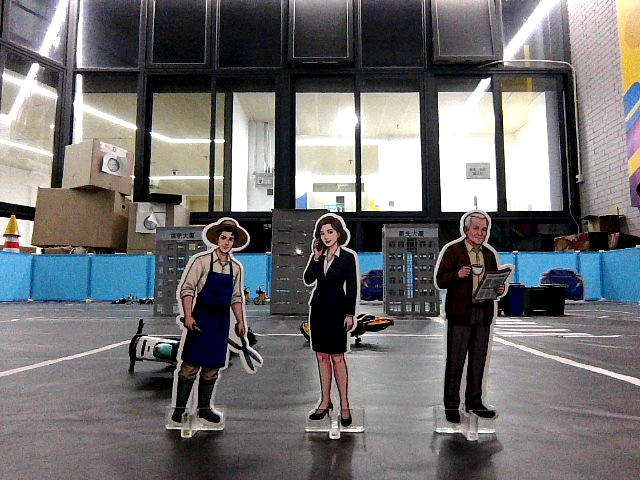community_person: (157, 209, 265, 444), (426, 205, 518, 449), (292, 205, 372, 444)
